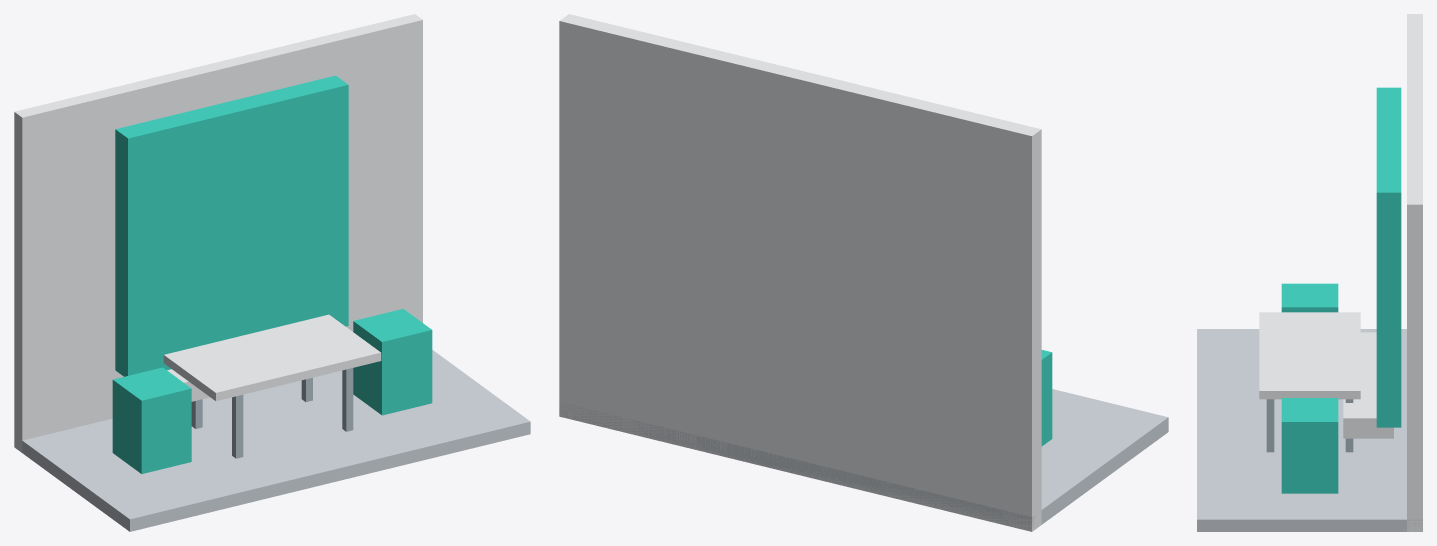
3 views of the same model, side by side, from view 1: azimuth 30°, elevation 25°; view 2: azimuth 150°, elevation 25°; view 3: azimuth 270°, elevation 25° (orthographic). The views are drawn at different scales.
Parts seen in each view (by area): view 1: Exhibition Booth Concept; view 2: Exhibition Booth Concept; view 3: Exhibition Booth Concept.
Part boxes in pixels (x1=…): Exhibition Booth Concept: x1=14, y1=14, x2=530, y2=531; Exhibition Booth Concept: x1=559, y1=14, x2=1168, y2=531; Exhibition Booth Concept: x1=1197, y1=14, x2=1422, y2=531.
Size of the model in its own units: 4 by 3.2 by 2.
